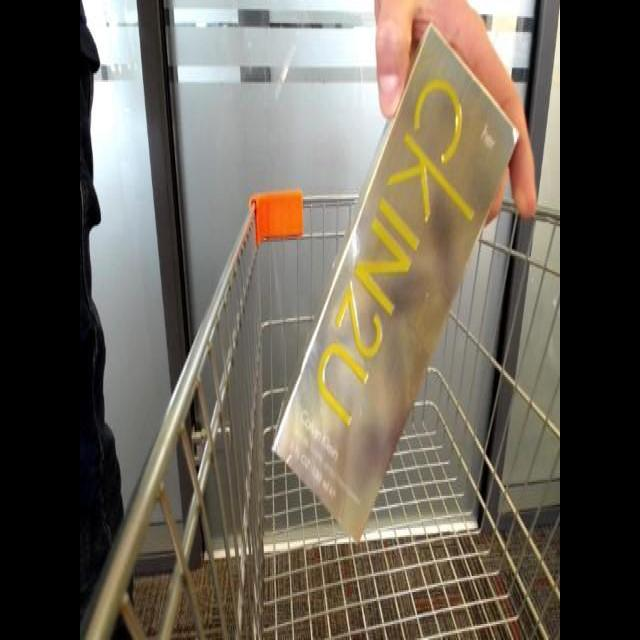Calvin Klein: (268, 27, 529, 542)
